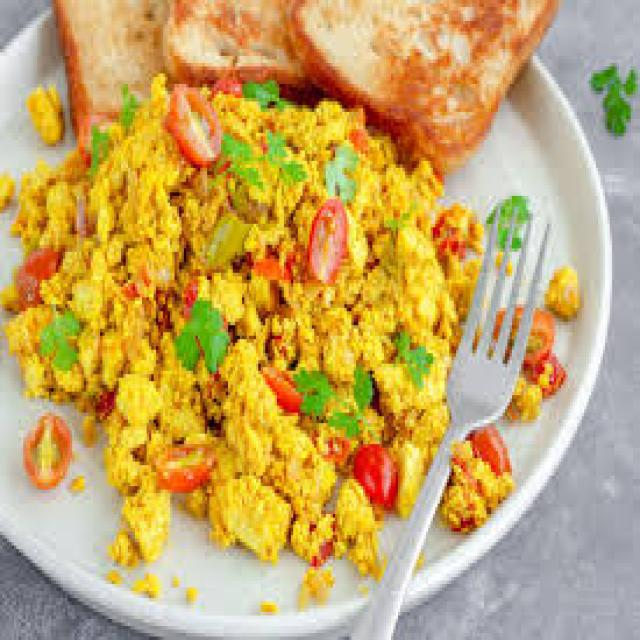telur_orak_arik: (33, 99, 484, 534)
